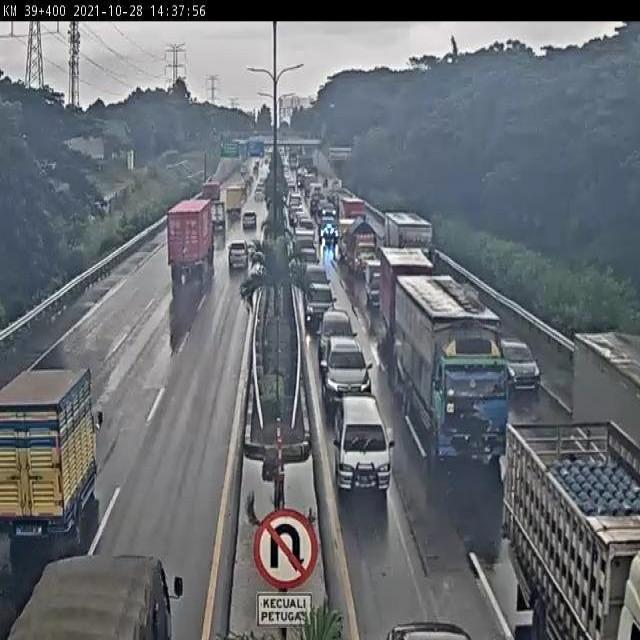big truck: (397, 268, 506, 468), (162, 197, 211, 292)
car: (330, 389, 400, 494), (317, 328, 374, 399), (494, 331, 540, 392), (310, 308, 352, 341), (307, 281, 340, 319), (223, 237, 246, 279), (242, 210, 258, 234)
small truck: (493, 406, 640, 640), (0, 358, 130, 562), (226, 184, 244, 217), (201, 177, 222, 203)
